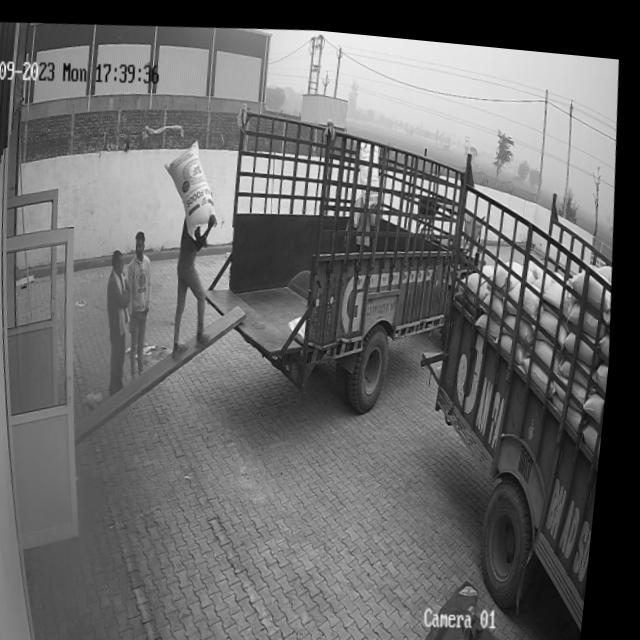sack: (159, 129, 225, 240)
